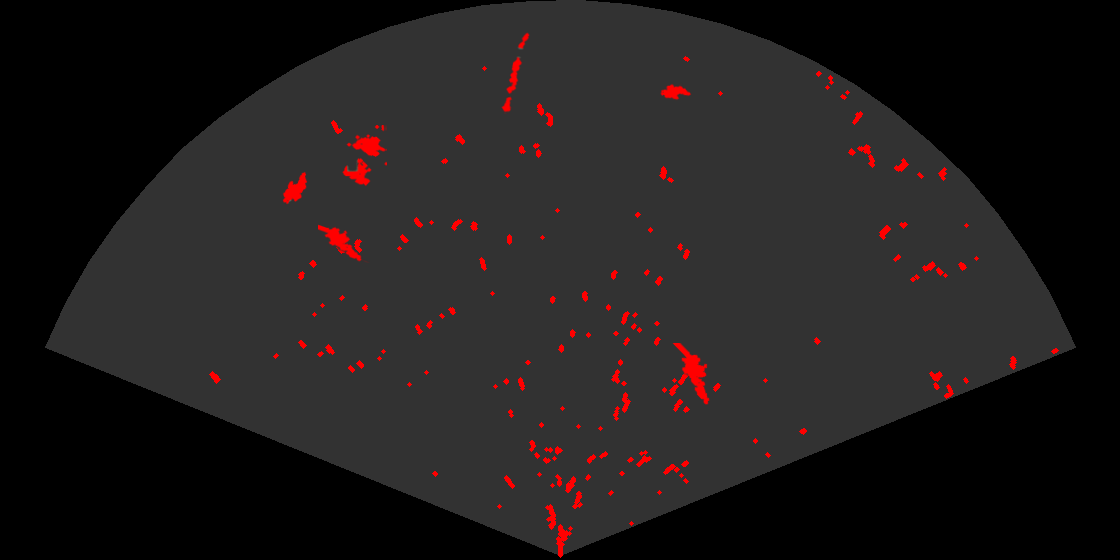AUV: (281, 170, 309, 206), (659, 82, 693, 102)
cage: (341, 125, 387, 188)
chain: (500, 31, 531, 114)
frogman: (671, 343, 711, 406), (318, 223, 370, 263)
